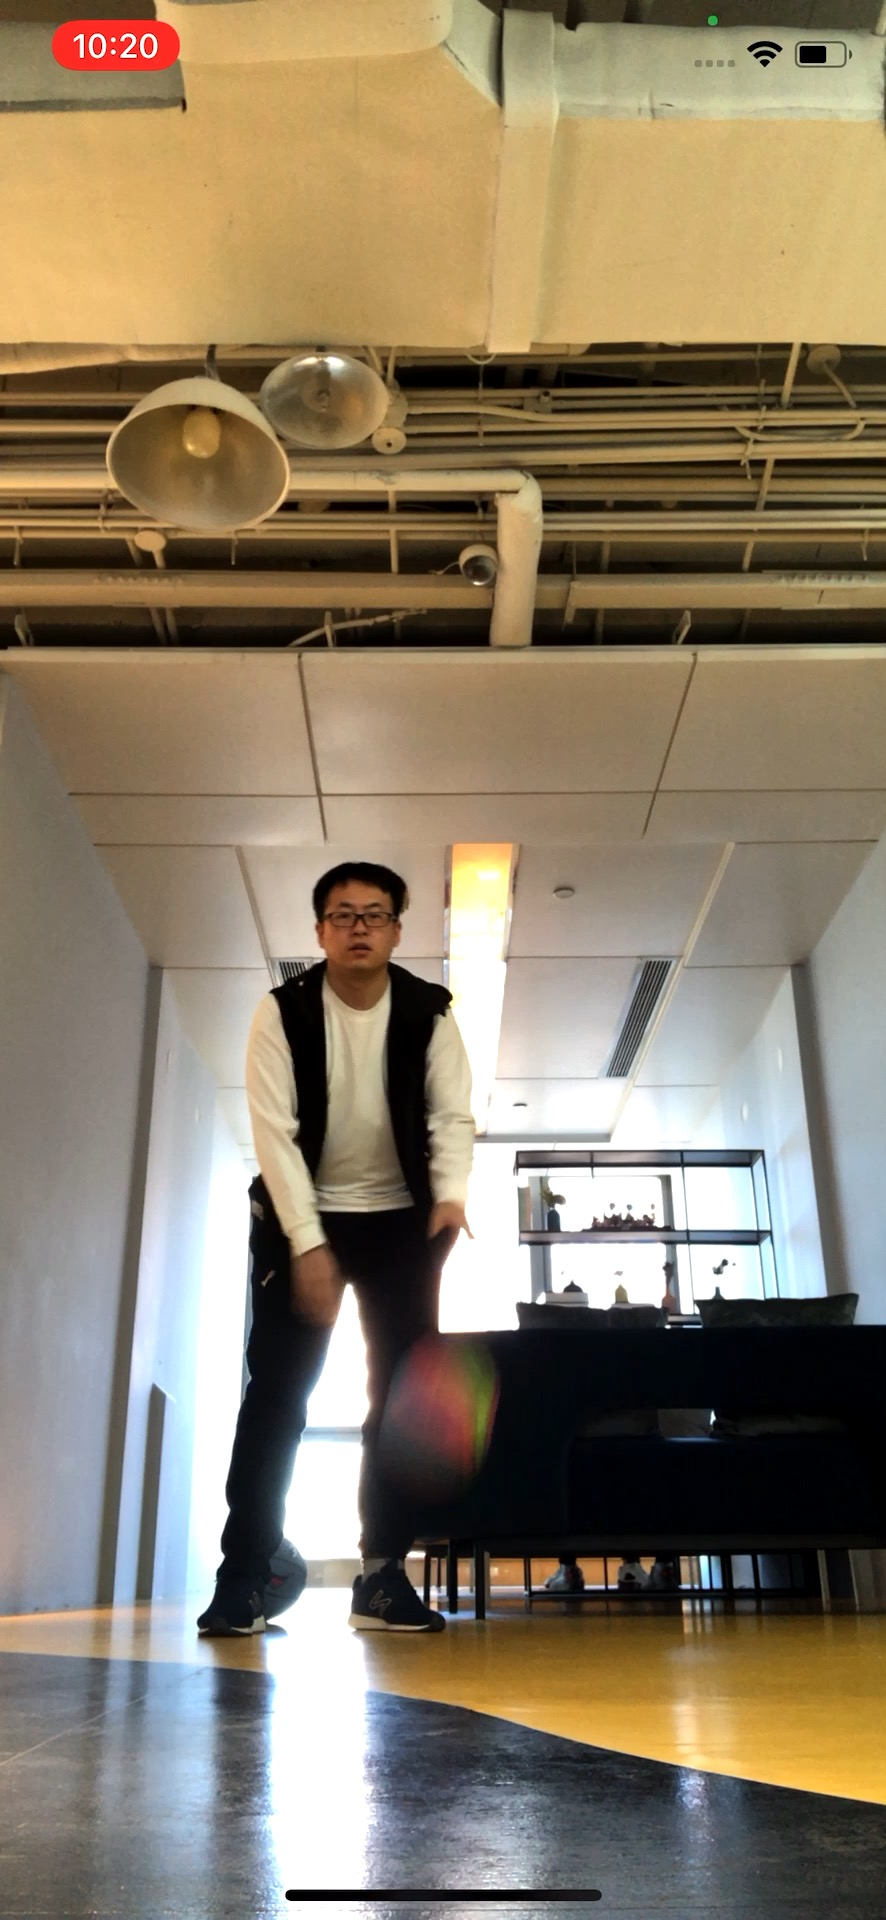ball: (381, 1344, 501, 1468)
